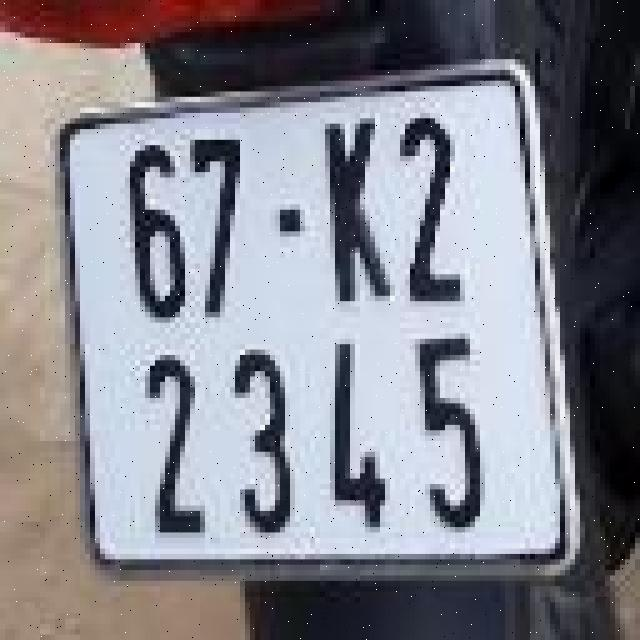2: (135, 339, 220, 543), (395, 100, 475, 314)
3: (228, 339, 302, 554)
4: (302, 326, 408, 540)
5: (408, 325, 518, 557)
6: (112, 132, 192, 331)
7: (190, 126, 250, 331)
K: (312, 102, 402, 323)
